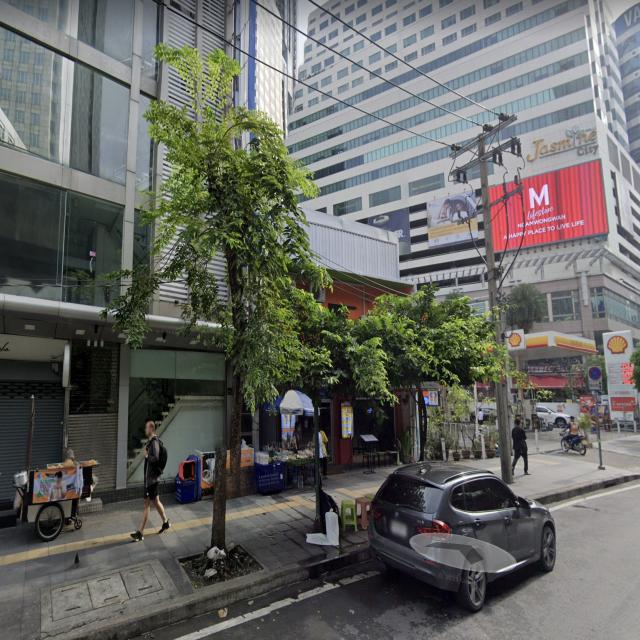tree: (121, 41, 314, 510), (334, 277, 512, 463)
